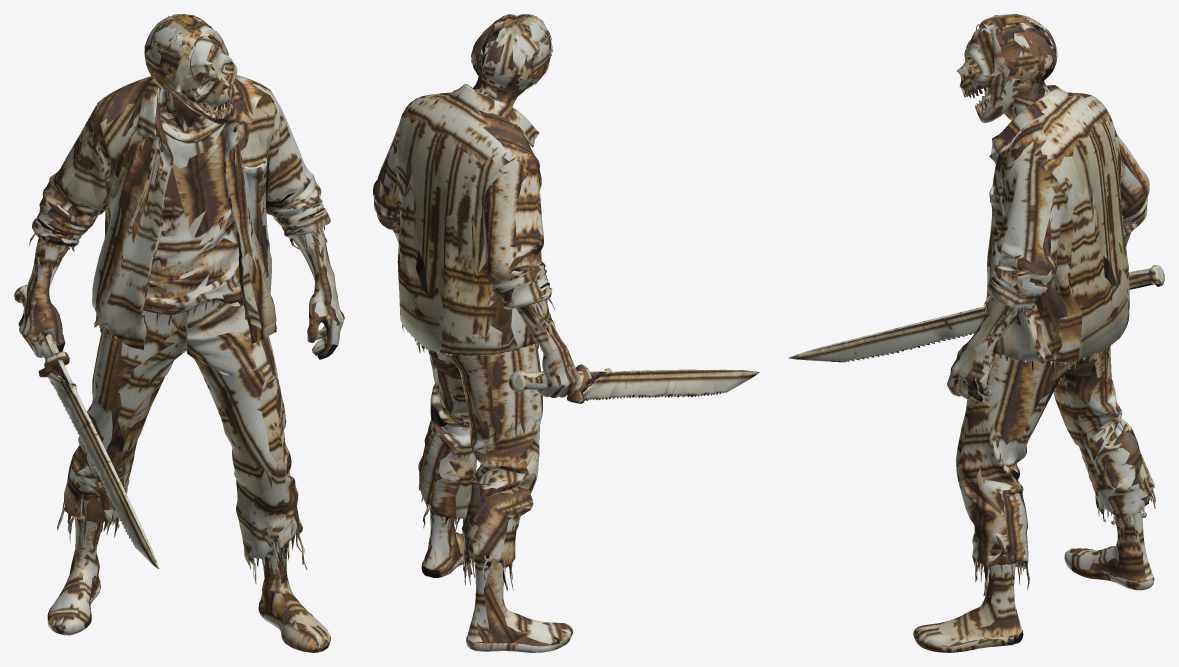
File: horrorHombre.obj
3 views of the same model, side by side, from view 1: azimuth 30°, elevation 25°; view 2: azimuth 150°, elevation 25°; view 3: azimuth 270°, elevation 25° (orthographic). The views are drawn at different scales.
Parts seen in each view (by area): view 1: material_Material.002_0; view 2: material_Material.002_0; view 3: material_Material.002_0.
Boxes of the visible parts, x1,y1,x2,y2 form: material_Material.002_0: (14, 14, 344, 652); material_Material.002_0: (373, 14, 759, 652); material_Material.002_0: (789, 14, 1164, 652).
Bounding box in the file's own units: 0.5193 × 1.06 × 0.6184.
